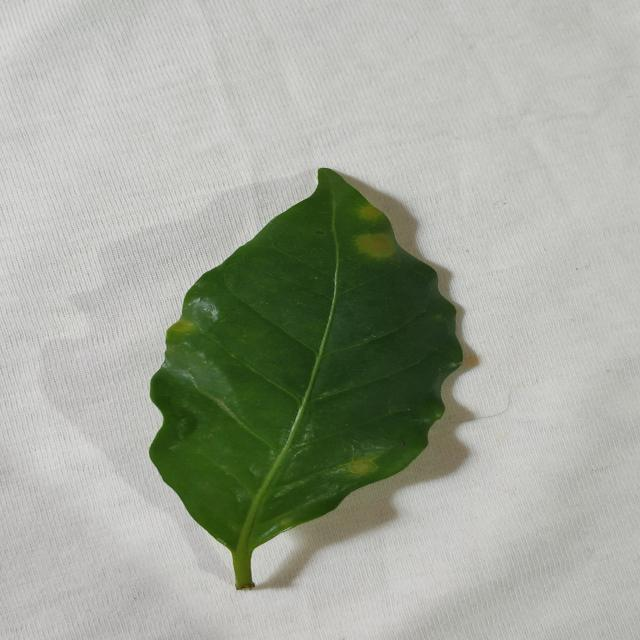Enfermedad-Roya: (148, 169, 480, 593)
